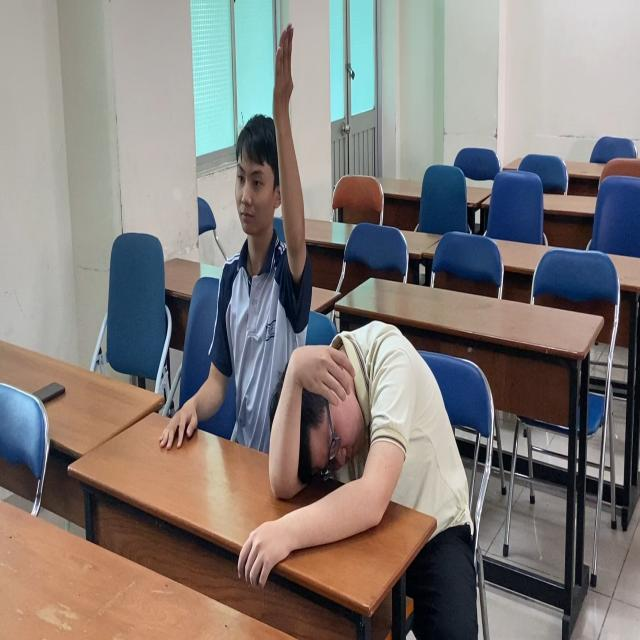raise_hand: (232, 21, 315, 391)
sleep: (271, 319, 451, 536)
